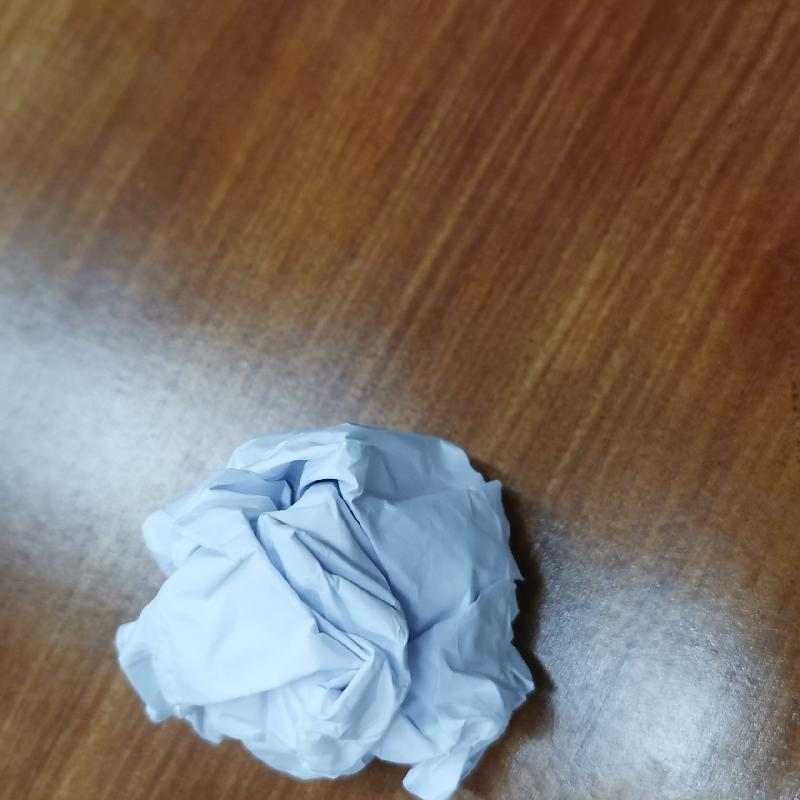spitball: (105, 421, 542, 800)
